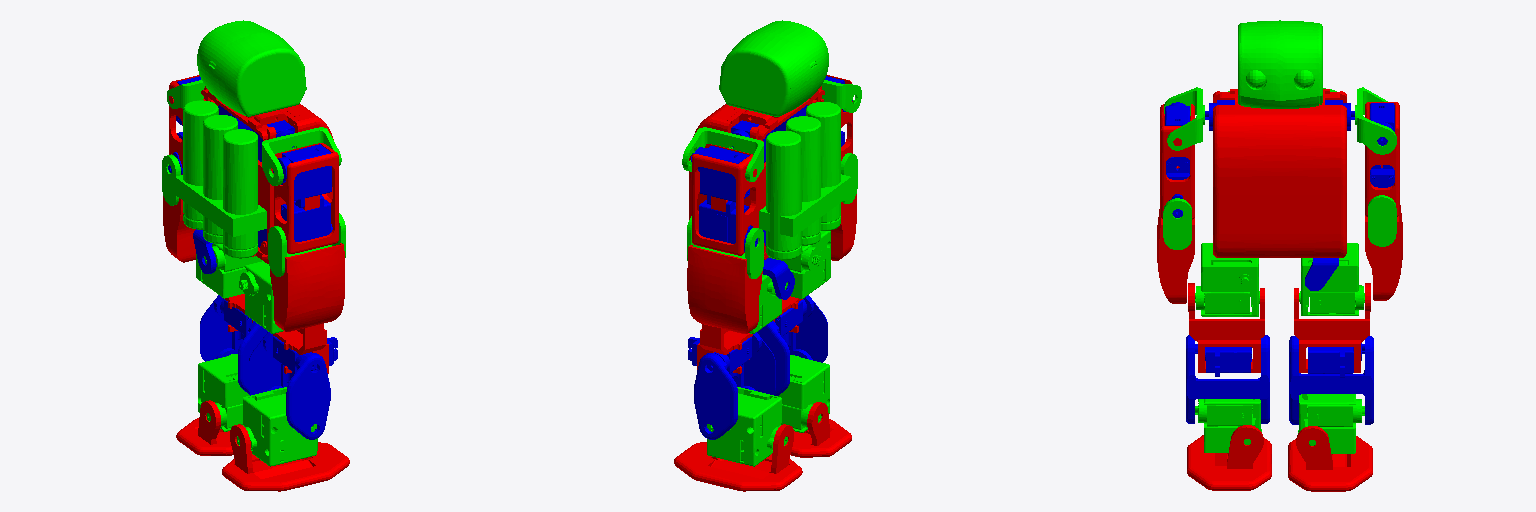
--- Render facts (derived) ---
3 views of the same robot in one strip: view 1: azimuth 30°, elevation 25°; view 2: azimuth 150°, elevation 25°; view 3: azimuth 270°, elevation 25° (orthographic).
Robot: plen — 34 links, 33 joints (18 revolute, 15 fixed); root link base_footprint; default pose: every joint at zero.
Links seen in each view (by area): view 1: battery, head, r_hand, r_shin, r_foot, r_ankle, r_arm, torso, l_shin, l_ankle, l_foot, r_thigh (+13 smaller); view 2: battery, head, l_hand, l_shin, l_foot, l_ankle, l_arm, r_shin, r_ankle, torso, r_foot, r_thigh (+12 smaller); view 3: torso, head, r_foot, l_foot, r_thigh, l_shin, l_thigh, r_shin, l_ankle, r_knee, l_knee, r_ankle (+13 smaller).
Link boxes in pixels (bbox=[...]): battery: bbox=[175, 100, 266, 258]; head: bbox=[197, 20, 306, 116]; r_hand: bbox=[270, 243, 344, 331]; r_shin: bbox=[249, 332, 330, 439]; r_foot: bbox=[222, 424, 349, 491]; r_ankle: bbox=[237, 387, 317, 466]; r_arm: bbox=[274, 143, 338, 253]; torso: bbox=[201, 86, 333, 263]; l_shin: bbox=[200, 295, 267, 395]; l_ankle: bbox=[198, 354, 249, 431]; l_foot: bbox=[176, 400, 233, 455]; r_thigh: bbox=[239, 261, 283, 333]; battery: bbox=[759, 102, 851, 259]; head: bbox=[719, 20, 828, 116]; l_hand: bbox=[687, 245, 762, 333]; l_shin: bbox=[694, 332, 775, 439]; l_foot: bbox=[674, 424, 802, 491]; l_ankle: bbox=[707, 387, 787, 466]; l_arm: bbox=[692, 144, 756, 255]; r_shin: bbox=[757, 295, 827, 395]; r_ankle: bbox=[778, 355, 829, 432]; torso: bbox=[689, 86, 824, 259]; r_foot: bbox=[791, 402, 851, 457]; r_thigh: bbox=[768, 231, 830, 298]; torso: bbox=[1213, 89, 1346, 257]; head: bbox=[1238, 20, 1322, 108]; r_foot: bbox=[1187, 425, 1271, 490]; l_foot: bbox=[1288, 426, 1372, 491]; r_thigh: bbox=[1195, 243, 1259, 316]; l_shin: bbox=[1289, 336, 1373, 424]; l_thigh: bbox=[1299, 243, 1364, 315]; r_shin: bbox=[1186, 335, 1269, 423]; l_ankle: bbox=[1298, 394, 1364, 453]; r_knee: bbox=[1188, 283, 1264, 372]; l_knee: bbox=[1294, 283, 1370, 372]; r_ankle: bbox=[1195, 399, 1261, 452].
Size in the robot's own frame: 0.0672 by 0.1222 by 0.236 metres.
Meshes: 17 distinct files referenced, 32 mesh visuals loaded (6 binary STL, 10 ASCII STL); not drawn: 1 (reference not matched to a file when rendering).

robot.urdf — plen:
<?xml version="1.0" encoding="utf-8"?>
<!-- =================================================================================== -->
<!-- |    This document was autogenerated by xacro from plen.urdf.xacro                | -->
<!-- |    EDITING THIS FILE BY HAND IS NOT RECOMMENDED                                 | -->
<!-- =================================================================================== -->
<robot name="plen">
  <!-- ros_control plugin -->
  <gazebo>
    <plugin filename="libgazebo_ros_control.so" name="gazebo_ros_control">
      <robotNamespace>/plen</robotNamespace>
      <robotSimType>gazebo_ros_control/DefaultRobotHWSim</robotSimType>
    </plugin>
  </gazebo>
  <gazebo reference="torso">
    <material>Gazebo/Gray</material>
    <mu1>100</mu1>
    <!-- static -->
    <mu2>100</mu2>
    <!-- dynamic -->
    <dampingFactor>0.001</dampingFactor>
    <kp>10000000.0</kp>
    <!-- rigidity (damping) -->
    <kd>1.0</kd>
    <!-- rigidity (damping) -->
    <minDepth>0.001</minDepth>
    <fdir1>1 0 0</fdir1>
    <!-- friction direction -->
  </gazebo>
  <gazebo reference="battery">
    <material>Gazebo/Orange</material>
    <mu1>100</mu1>
    <!-- static -->
    <mu2>100</mu2>
    <!-- dynamic -->
    <dampingFactor>0.001</dampingFactor>
    <kp>10000000.0</kp>
    <!-- rigidity (damping) -->
    <kd>1.0</kd>
    <!-- rigidity (damping) -->
    <minDepth>0.001</minDepth>
    <fdir1>1 0 0</fdir1>
    <!-- friction direction -->
  </gazebo>
  <gazebo reference="head">
    <material>Gazebo/Gray</material>
    <mu1>100</mu1>
    <!-- static -->
    <mu2>100</mu2>
    <!-- dynamic -->
    <dampingFactor>0.001</dampingFactor>
    <kp>10000000.0</kp>
    <!-- rigidity (damping) -->
    <kd>1.0</kd>
    <!-- rigidity (damping) -->
    <minDepth>0.001</minDepth>
    <fdir1>1 0 0</fdir1>
    <!-- friction direction -->
  </gazebo>
  <gazebo reference="rt_servo">
    <material>Gazebo/Orange</material>
    <mu1>100</mu1>
    <!-- static -->
    <mu2>100</mu2>
    <!-- dynamic -->
    <dampingFactor>0.001</dampingFactor>
    <kp>10000000.0</kp>
    <!-- rigidity (damping) -->
    <kd>1.0</kd>
    <!-- rigidity (damping) -->
    <minDepth>0.001</minDepth>
    <fdir1>1 0 0</fdir1>
    <!-- friction direction -->
  </gazebo>
  <gazebo reference="lt_servo">
    <material>Gazebo/Orange</material>
    <mu1>100</mu1>
    <!-- static -->
    <mu2>100</mu2>
    <!-- dynamic -->
    <dampingFactor>0.001</dampingFactor>
    <kp>10000000.0</kp>
    <!-- rigidity (damping) -->
    <kd>1.0</kd>
    <!-- rigidity (damping) -->
    <minDepth>0.001</minDepth>
    <fdir1>1 0 0</fdir1>
    <!-- friction direction -->
  </gazebo>
  <gazebo reference="rb_servo">
    <material>Gazebo/Orange</material>
    <mu1>100</mu1>
    <!-- static -->
    <mu2>100</mu2>
    <!-- dynamic -->
    <dampingFactor>0.001</dampingFactor>
    <kp>10000000.0</kp>
    <!-- rigidity (damping) -->
    <kd>1.0</kd>
    <!-- rigidity (damping) -->
    <minDepth>0.001</minDepth>
    <fdir1>1 0 0</fdir1>
    <!-- friction direction -->
  </gazebo>
  <gazebo reference="lb_servo">
    <material>Gazebo/Orange</material>
    <mu1>100</mu1>
    <!-- static -->
    <mu2>100</mu2>
    <!-- dynamic -->
    <dampingFactor>0.001</dampingFactor>
    <kp>10000000.0</kp>
    <!-- rigidity (damping) -->
    <kd>1.0</kd>
    <!-- rigidity (damping) -->
    <minDepth>0.001</minDepth>
    <fdir1>1 0 0</fdir1>
    <!-- friction direction -->
  </gazebo>
  <gazebo reference="r_shoulder">
    <material>Gazebo/Gray</material>
    <mu1>100</mu1>
    <!-- static -->
    <mu2>100</mu2>
    <!-- dynamic -->
    <dampingFactor>0.001</dampingFactor>
    <kp>10000000.0</kp>
    <!-- rigidity (damping) -->
    <kd>1.0</kd>
    <!-- rigidity (damping) -->
    <minDepth>0.001</minDepth>
    <fdir1>1 0 0</fdir1>
    <!-- friction direction -->
  </gazebo>
  <gazebo reference="rs_servo">
    <material>Gazebo/Orange</material>
    <mu1>100</mu1>
    <!-- static -->
    <mu2>100</mu2>
    <!-- dynamic -->
    <dampingFactor>0.001</dampingFactor>
    <kp>10000000.0</kp>
    <!-- rigidity (damping) -->
    <kd>1.0</kd>
    <!-- rigidity (damping) -->
    <minDepth>0.001</minDepth>
    <fdir1>1 0 0</fdir1>
    <!-- friction direction -->
  </gazebo>
  <gazebo reference="r_arm">
    <material>Gazebo/Gray</material>
    <mu1>100</mu1>
    <!-- static -->
    <mu2>100</mu2>
    <!-- dynamic -->
    <dampingFactor>0.001</dampingFactor>
    <kp>10000000.0</kp>
    <!-- rigidity (damping) -->
    <kd>1.0</kd>
    <!-- rigidity (damping) -->
    <minDepth>0.001</minDepth>
    <fdir1>1 0 0</fdir1>
    <!-- friction direction -->
  </gazebo>
  <gazebo reference="re_servo">
    <material>Gazebo/Orange</material>
    <mu1>100</mu1>
    <!-- static -->
    <mu2>100</mu2>
    <!-- dynamic -->
    <dampingFactor>0.001</dampingFactor>
    <kp>10000000.0</kp>
    <!-- rigidity (damping) -->
    <kd>1.0</kd>
    <!-- rigidity (damping) -->
    <minDepth>0.001</minDepth>
    <fdir1>1 0 0</fdir1>
    <!-- friction direction -->
  </gazebo>
  <gazebo reference="r_elbow">
    <material>Gazebo/Gray</material>
    <mu1>100</mu1>
    <!-- static -->
    <mu2>100</mu2>
    <!-- dynamic -->
    <dampingFactor>0.001</dampingFactor>
    <kp>10000000.0</kp>
    <!-- rigidity (damping) -->
    <kd>1.0</kd>
    <!-- rigidity (damping) -->
    <minDepth>0.001</minDepth>
    <fdir1>1 0 0</fdir1>
    <!-- friction direction -->
  </gazebo>
  <gazebo reference="r_hand">
    <material>Gazebo/Gray</material>
    <mu1>100</mu1>
    <!-- static -->
    <mu2>100</mu2>
    <!-- dynamic -->
    <dampingFactor>0.001</dampingFactor>
    <kp>10000000.0</kp>
    <!-- rigidity (damping) -->
    <kd>1.0</kd>
    <!-- rigidity (damping) -->
    <minDepth>0.001</minDepth>
    <fdir1>1 0 0</fdir1>
    <!-- friction direction -->
  </gazebo>
  <gazebo reference="l_shoulder">
    <material>Gazebo/Gray</material>
    <mu1>100</mu1>
    <!-- static -->
    <mu2>100</mu2>
    <!-- dynamic -->
    <dampingFactor>0.001</dampingFactor>
    <kp>10000000.0</kp>
    <!-- rigidity (damping) -->
    <kd>1.0</kd>
    <!-- rigidity (damping) -->
    <minDepth>0.001</minDepth>
    <fdir1>1 0 0</fdir1>
    <!-- friction direction -->
  </gazebo>
  <gazebo reference="ls_servo">
    <material>Gazebo/Orange</material>
    <mu1>100</mu1>
    <!-- static -->
    <mu2>100</mu2>
    <!-- dynamic -->
    <dampingFactor>0.001</dampingFactor>
    <kp>10000000.0</kp>
    <!-- rigidity (damping) -->
    <kd>1.0</kd>
    <!-- rigidity (damping) -->
    <minDepth>0.001</minDepth>
    <fdir1>1 0 0</fdir1>
    <!-- friction direction -->
  </gazebo>
  <gazebo reference="l_arm">
    <material>Gazebo/Gray</material>
    <mu1>100</mu1>
    <!-- static -->
    <mu2>100</mu2>
    <!-- dynamic -->
    <dampingFactor>0.001</dampingFactor>
    <kp>10000000.0</kp>
    <!-- rigidity (damping) -->
    <kd>1.0</kd>
    <!-- rigidity (damping) -->
    <minDepth>0.001</minDepth>
    <fdir1>1 0 0</fdir1>
    <!-- friction direction -->
  </gazebo>
  <gazebo reference="le_servo">
    <material>Gazebo/Orange</material>
    <mu1>100</mu1>
    <!-- static -->
    <mu2>100</mu2>
    <!-- dynamic -->
    <dampingFactor>0.001</dampingFactor>
    <kp>10000000.0</kp>
    <!-- rigidity (damping) -->
    <kd>1.0</kd>
    <!-- rigidity (damping) -->
    <minDepth>0.001</minDepth>
    <fdir1>1 0 0</fdir1>
    <!-- friction direction -->
  </gazebo>
  <gazebo reference="l_elbow">
    <material>Gazebo/Gray</material>
    <mu1>100</mu1>
    <!-- static -->
    <mu2>100</mu2>
    <!-- dynamic -->
    <dampingFactor>0.001</dampingFactor>
    <kp>10000000.0</kp>
    <!-- rigidity (damping) -->
    <kd>1.0</kd>
    <!-- rigidity (damping) -->
    <minDepth>0.001</minDepth>
    <fdir1>1 0 0</fdir1>
    <!-- friction direction -->
  </gazebo>
  <gazebo reference="l_hand">
    <material>Gazebo/Gray</material>
    <mu1>100</mu1>
    <!-- static -->
    <mu2>100</mu2>
    <!-- dynamic -->
    <dampingFactor>0.001</dampingFactor>
    <kp>10000000.0</kp>
    <!-- rigidity (damping) -->
    <kd>1.0</kd>
    <!-- rigidity (damping) -->
    <minDepth>0.001</minDepth>
    <fdir1>1 0 0</fdir1>
    <!-- friction direction -->
  </gazebo>
  <gazebo reference="r_hip">
    <material>Gazebo/Gray</material>
    <mu1>100</mu1>
    <!-- static -->
    <mu2>100</mu2>
    <!-- dynamic -->
    <dampingFactor>0.001</dampingFactor>
    <kp>10000000.0</kp>
    <!-- rigidity (damping) -->
    <kd>1.0</kd>
    <!-- rigidity (damping) -->
    <minDepth>0.001</minDepth>
    <fdir1>1 0 0</fdir1>
    <!-- friction direction -->
  </gazebo>
  <gazebo reference="r_thigh">
    <material>Gazebo/Orange</material>
    <mu1>100</mu1>
    <!-- static -->
    <mu2>100</mu2>
    <!-- dynamic -->
    <dampingFactor>0.001</dampingFactor>
    <kp>10000000.0</kp>
    <!-- rigidity (damping) -->
    <kd>1.0</kd>
    <!-- rigidity (damping) -->
    <minDepth>0.001</minDepth>
    <fdir1>1 0 0</fdir1>
    <!-- friction direction -->
  </gazebo>
  <gazebo reference="r_knee">
    <material>Gazebo/Gray</material>
    <mu1>100</mu1>
    <!-- static -->
    <mu2>100</mu2>
    <!-- dynamic -->
    <dampingFactor>0.001</dampingFactor>
    <kp>10000000.0</kp>
    <!-- rigidity (damping) -->
    <kd>1.0</kd>
    <!-- rigidity (damping) -->
    <minDepth>0.001</minDepth>
    <fdir1>1 0 0</fdir1>
    <!-- friction direction -->
  </gazebo>
  <gazebo reference="r_knee_servo">
    <material>Gazebo/Orange</material>
    <mu1>100</mu1>
    <!-- static -->
    <mu2>100</mu2>
    <!-- dynamic -->
    <dampingFactor>0.001</dampingFactor>
    <kp>10000000.0</kp>
    <!-- rigidity (damping) -->
    <kd>1.0</kd>
    <!-- rigidity (damping) -->
    <minDepth>0.001</minDepth>
    <fdir1>1 0 0</fdir1>
    <!-- friction direction -->
  </gazebo>
  <gazebo reference="r_shin">
    <material>Gazebo/Gray</material>
    <mu1>100</mu1>
    <!-- static -->
    <mu2>100</mu2>
    <!-- dynamic -->
    <dampingFactor>0.001</dampingFactor>
    <kp>10000000.0</kp>
    <!-- rigidity (damping) -->
    <kd>1.0</kd>
    <!-- rigidity (damping) -->
    <minDepth>0.001</minDepth>
    <fdir1>1 0 0</fdir1>
    <!-- friction direction -->
  </gazebo>
  <gazebo reference="r_ankle">
    <material>Gazebo/Orange</material>
    <mu1>100</mu1>
    <!-- static -->
    <mu2>100</mu2>
    <!-- dynamic -->
    <dampingFactor>0.001</dampingFactor>
    <kp>10000000.0</kp>
    <!-- rigidity (damping) -->
    <kd>1.0</kd>
    <!-- rigidity (damping) -->
    <minDepth>0.001</minDepth>
    <fdir1>1 0 0</fdir1>
    <!-- friction direction -->
  </gazebo>
  <gazebo reference="r_foot">
    <material>Gazebo/Gray</material>
    <mu1>100</mu1>
    <!-- static -->
    <mu2>100</mu2>
    <!-- dynamic -->
    <dampingFactor>0.001</dampingFactor>
    <kp>10000000.0</kp>
    <!-- rigidity (damping) -->
    <kd>1.0</kd>
    <!-- rigidity (damping) -->
    <minDepth>0.001</minDepth>
    <fdir1>1 0 0</fdir1>
    <!-- friction direction -->
  </gazebo>
  <gazebo reference="l_hip">
    <material>Gazebo/Gray</material>
    <mu1>100</mu1>
    <!-- static -->
    <mu2>100</mu2>
    <!-- dynamic -->
    <dampingFactor>0.001</dampingFactor>
    <kp>10000000.0</kp>
    <!-- rigidity (damping) -->
    <kd>1.0</kd>
    <!-- rigidity (damping) -->
    <minDepth>0.001</minDepth>
    <fdir1>1 0 0</fdir1>
    <!-- friction direction -->
  </gazebo>
  <gazebo reference="l_thigh">
    <material>Gazebo/Orange</material>
    <mu1>100</mu1>
    <!-- static -->
    <mu2>100</mu2>
    <!-- dynamic -->
    <dampingFactor>0.001</dampingFactor>
    <kp>10000000.0</kp>
    <!-- rigidity (damping) -->
    <kd>1.0</kd>
    <!-- rigidity (damping) -->
    <minDepth>0.001</minDepth>
    <fdir1>1 0 0</fdir1>
    <!-- friction direction -->
  </gazebo>
  <gazebo reference="l_knee">
    <material>Gazebo/Gray</material>
    <mu1>100</mu1>
    <!-- static -->
    <mu2>100</mu2>
    <!-- dynamic -->
    <dampingFactor>0.001</dampingFactor>
    <kp>10000000.0</kp>
    <!-- rigidity (damping) -->
    <kd>1.0</kd>
    <!-- rigidity (damping) -->
    <minDepth>0.001</minDepth>
    <fdir1>1 0 0</fdir1>
    <!-- friction direction -->
  </gazebo>
  <gazebo reference="l_knee_servo">
    <material>Gazebo/Orange</material>
    <mu1>100</mu1>
    <!-- static -->
    <mu2>100</mu2>
    <!-- dynamic -->
    <dampingFactor>0.001</dampingFactor>
    <kp>10000000.0</kp>
    <!-- rigidity (damping) -->
    <kd>1.0</kd>
    <!-- rigidity (damping) -->
    <minDepth>0.001</minDepth>
    <fdir1>1 0 0</fdir1>
    <!-- friction direction -->
  </gazebo>
  <gazebo reference="l_shin">
    <material>Gazebo/Gray</material>
    <mu1>100</mu1>
    <!-- static -->
    <mu2>100</mu2>
    <!-- dynamic -->
    <dampingFactor>0.001</dampingFactor>
    <kp>10000000.0</kp>
    <!-- rigidity (damping) -->
    <kd>1.0</kd>
    <!-- rigidity (damping) -->
    <minDepth>0.001</minDepth>
    <fdir1>1 0 0</fdir1>
    <!-- friction direction -->
  </gazebo>
  <gazebo reference="l_ankle">
    <material>Gazebo/Orange</material>
    <mu1>100</mu1>
    <!-- static -->
    <mu2>100</mu2>
    <!-- dynamic -->
    <dampingFactor>0.001</dampingFactor>
    <kp>10000000.0</kp>
    <!-- rigidity (damping) -->
    <kd>1.0</kd>
    <!-- rigidity (damping) -->
    <minDepth>0.001</minDepth>
    <fdir1>1 0 0</fdir1>
    <!-- friction direction -->
  </gazebo>
  <gazebo reference="l_foot">
    <material>Gazebo/Gray</material>
    <mu1>100</mu1>
    <!-- static -->
    <mu2>100</mu2>
    <!-- dynamic -->
    <dampingFactor>0.001</dampingFactor>
    <kp>10000000.0</kp>
    <!-- rigidity (damping) -->
    <kd>1.0</kd>
    <!-- rigidity (damping) -->
    <minDepth>0.001</minDepth>
    <fdir1>1 0 0</fdir1>
    <!-- friction direction -->
  </gazebo>
  <!-- Robot description -->
  <!-- Links -->
  <link name="base_footprint"/>
  <link name="torso">
    <visual>
      <origin rpy="0 0 0" xyz="0 0 0"/>
      <geometry>
        <mesh filename="package://plen_ros/meshes/torso.stl" scale="0.001 0.001 0.001"/>
      </geometry>
      <material name="red_mat">
        <color rgba="1 0 0 1"/>
      </material>
    </visual>
    <collision>
      <origin rpy="0 0 0" xyz="0.0 0 0.0"/>
      <geometry>
        <box size="0.045 0.048 0.075"/>
      </geometry>
    </collision>
    <inertial>
      <mass value="0.043968"/>
      <origin rpy="0 0 0" xyz="0.0 0 0.0"/>
      <!-- Inertial Axes -->
      <inertia ixx="2.80296e-05" ixy="0" ixz="0" iyx="0" iyy="2.80296e-05" iyz="0" izx="0" izy="0" izz="1.5861456e-05"/>
    </inertial>
  </link>
  <!-- m to mm -->
  <link name="battery">
    <visual>
      <origin rpy="0 0 0" xyz="0 0 0"/>
      <geometry>
        <mesh filename="package://plen_ros/meshes/battery.stl" scale="0.001 0.001 0.001"/>
      </geometry>
      <material name="green_mat">
        <color rgba="0 1 0 1"/>
      </material>
    </visual>
    <collision>
      <origin rpy="0 0 0" xyz="0.0075 0 0.0115"/>
      <geometry>
        <box size="0.011 0.051 0.046"/>
      </geometry>
    </collision>
    <inertial>
      <mass value="0.064"/>
      <origin rpy="0 0 0" xyz="0.0075 0 0.0115"/>
      <!-- Inertial Axes -->
      <inertia ixx="1.19306666667e-05" ixy="0" ixz="0" iyx="0" iyy="1.19306666667e-05" iyz="0" izx="0" izy="0" izz="1.45173333333e-05"/>
    </inertial>
  </link>
  <link name="head">
    <visual>
      <origin rpy="0 0 0" xyz="0 0 0"/>
      <geometry>
        <mesh filename="package://plen_ros/meshes/head.stl" scale="0.001 0.001 0.001"/>
      </geometry>
      <material name="green_mat">
        <color rgba="0 1 0 1"/>
      </material>
    </visual>
    <collision>
      <origin rpy="0 0 0" xyz="0 0 0.0"/>
      <geometry>
        <box size="0.04 0.04 0.04"/>
      </geometry>
    </collision>
    <inertial>
      <mass value="0.01"/>
      <origin rpy="0 0 0" xyz="0.0 0 0.0"/>
      <!-- Inertial Axes -->
      <inertia ixx="2.66666666667e-06" ixy="0" ixz="0" iyx="0" iyy="2.66666666667e-06" iyz="0" izx="0" izy="0" izz="2.66666666667e-06"/>
    </inertial>
  </link>
  <link name="rt_servo">
    <visual>
      <origin rpy="0 0 3.14159265359" xyz="0 0 0"/>
      <geometry>
        <mesh filename="package://plen_ros/meshes/servo.stl" scale="0.001 0.001 0.001"/>
      </geometry>
      <material name="blue_mat">
        <color rgba="0 0 1 1"/>
      </material>
    </visual>
    <collision>
      <origin rpy="0 0 3.14159265359" xyz="0 0.00625 0.0"/>
      <geometry>
        <box size="0.012 0.025 0.025"/>
      </geometry>
    </collision>
    <inertial>
      <mass value="0.012"/>
      <origin rpy="0 0 0" xyz="0 0.00625 0.0"/>
      <!-- Inertial Axes -->
      <inertia ixx="7.69e-07" ixy="0" ixz="0" iyx="0" iyy="7.69e-07" iyz="0" izx="0" izy="0" izz="7.69e-07"/>
    </inertial>
  </link>
  <link name="lt_servo">
    <visual>
      <origin rpy="0 0 3.14159265359" xyz="0 0 0"/>
      <geometry>
        <mesh filename="package://plen_ros/meshes/servo.stl" scale="0.001 0.001 0.001"/>
      </geometry>
      <material name="blue_mat">
        <color rgba="0 0 1 1"/>
      </material>
    </visual>
    <collision>
      <origin rpy="0 0 3.14159265359" xyz="0 0.00625 0.0"/>
      <geometry>
        <box size="0.012 0.025 0.025"/>
      </geometry>
    </collision>
    <inertial>
      <mass value="0.012"/>
      <origin rpy="0 0 0" xyz="0 0.00625 0.0"/>
      <!-- Inertial Axes -->
      <inertia ixx="7.69e-07" ixy="0" ixz="0" iyx="0" iyy="7.69e-07" iyz="0" izx="0" izy="0" izz="7.69e-07"/>
    </inertial>
  </link>
  <link name="rb_servo">
    <visual>
      <origin rpy="0 0 3.14159265359" xyz="0 0 0"/>
      <geometry>
        <mesh filename="package://plen_ros/meshes/servo.stl" scale="0.001 0.001 0.001"/>
      </geometry>
      <material name="blue_mat">
        <color rgba="0 0 1 1"/>
      </material>
    </visual>
    <collision>
      <origin rpy="0 0 3.14159265359" xyz="0 0.00625 0.0"/>
      <geometry>
        <box size="0.012 0.025 0.025"/>
      </geometry>
    </collision>
    <inertial>
      <mass value="0.012"/>
      <origin rpy="0 0 0" xyz="0 0.00625 0.0"/>
      <!-- Inertial Axes -->
      <inertia ixx="7.69e-07" ixy="0" ixz="0" iyx="0" iyy="7.69e-07" iyz="0" izx="0" izy="0" izz="7.69e-07"/>
    </inertial>
  </link>
  <link name="lb_servo">
    <visual>
      <origin rpy="0 0 3.14159265359" xyz="0 0 0"/>
      <geometry>
        <mesh filename="package://plen_ros/meshes/servo.stl" scale="0.001 0.001 0.001"/>
      </geometry>
      <material name="blue_mat">
        <color rgba="0 0 1 1"/>
      </material>
    </visual>
    <collision>
      <origin rpy="0 0 3.14159265359" xyz="0 0.00625 0.0"/>
      <geometry>
        <box size="0.012 0.025 0.025"/>
      </geometry>
    </collision>
    <inertial>
      <mass value="0.012"/>
      <origin rpy="0 0 0" xyz="0 0.00625 0.0"/>
      <!-- Inertial Axes -->
      <inertia ixx="7.69e-07" ixy="0" ixz="0" iyx="0" iyy="7.69e-07" iyz="0" izx="0" izy="0" izz="7.69e-07"/>
    </inertial>
  </link>
  <link name="r_shoulder">
    <visual>
      <origin rpy="0 0 0" xyz="0 0 0"/>
      <geometry>
        <mesh filename="package://plen_ros/meshes/shoulder.stl" scale="0.001 0.001 0.001"/>
      </geometry>
      <material name="green_mat">
        <color rgba="0 1 0 1"/>
      </material>
    </visual>
    <collision>
      <origin rpy="0 0 0" xyz="0 0 0.0125"/>
      <geometry>
        <box size="0.018 0.035 0.025"/>
      </geometry>
    </collision>
    <inertial>
      <mass value="0.002954"/>
      <origin rpy="0 0 0" xyz="0 0 0.0125"/>
      <!-- Inertial Axes -->
      <inertia ixx="2.33612166667e-07" ixy="0" ixz="0" iyx="0" iyy="2.33612166667e-07" iyz="0" izx="0" izy="0" izz="3.81312166667e-07"/>
    </inertial>
  </link>
  <link name="rs_servo">
    <visual>
      <origin rpy="0 0 3.14159265359" xyz="0 0 0"/>
      <geometry>
        <mesh filename="package://plen_ros/meshes/servo.stl" scale="0.001 0.001 0.001"/>
      </geometry>
      <material name="blue_mat">
        <color rgba="0 0 1 1"/>
      </material>
    </visual>
    <collision>
      <origin rpy="0 0 3.14159265359" xyz="0 0.00625 0.0"/>
      <geometry>
        <box size="0.012 0.025 0.025"/>
      </geometry>
    </collision>
    <inertial>
      <mass value="0.012"/>
      <origin rpy="0 0 0" xyz="0 0.00625 0.0"/>
      <!-- Inertial Axes -->
      <inertia ixx="7.69e-07" ixy="0" ixz="0" iyx="0" iyy="7.69e-07" iyz="0" izx="0" izy="0" izz="7.69e-07"/>
    </inertial>
  </link>
  <link name="r_arm">
    <visual>
      <origin rpy="0 0 0" xyz="0 0 0"/>
      <geometry>
        <mesh filename="package://plen_ros/meshes/arm.stl" scale="0.001 0.001 0.001"/>
      </geometry>
      <material name="red_mat">
        <color rgba="1 0 0 1"/>
      </material>
    </visual>
    <collision>
      <origin rpy="0 0 0" xyz="0 0 0.0"/>
      <geometry>
        <box size="0.015 0.035 0.05"/>
      </geometry>
    </collision>
    <inertial>
      <mass value="0.005091"/>
      <origin rpy="0 0 0" xyz="0 0 0.0"/>
      <!-- Inertial Axes -->
      <inertia ixx="1.15608125e-06" ixy="0" ixz="0" iyx="0" iyy="1.15608125e-06" iyz="0" izx="0" izy="0" izz="6.151625e-07"/>
    </inertial>
  </link>
  <link name="re_servo">
    <visual>
      <origin rpy="0 0 3.14159265359" xyz="0 0 0"/>
      <geometry>
        <mesh filename="package://plen_ros/meshes/servo.stl" scale="0.001 0.001 0.001"/>
      </geometry>
      <material name="blue_mat">
        <color rgba="0 0 1 1"/>
      </material>
    </visual>
    <collision>
      <origin rpy="0 0 3.14159265359" xyz="0 0.00625 0.0"/>
      <geometry>
        <box size="0.012 0.025 0.025"/>
      </geometry>
    </collision>
    <inertial>
      <mass value="0.012"/>
      <origin rpy="0 0 0" xyz="0 0.00625 0.0"/>
      <!-- Inertial Axes -->
      <inertia ixx="7.69e-07" ixy="0" ixz="0" iyx="0" iyy="7.69e-07" iyz="0" izx="0" izy="0" izz="7.69e-07"/>
    </inertial>
  </link>
  <link name="r_elbow">
    <visual>
      <origin rpy="0 0 0" xyz="-0.0135 0 0"/>
      <geometry>
        <mesh filename="package://plen_ros/meshes/elbow.stl" scale="0.001 0.001 0.001"/>
      </geometry>
      <material name="green_mat">
        <color rgba="0 1 0 1"/>
      </material>
    </visual>
    <collision>
      <origin rpy="0 0 0" xyz="-0.00675 0 0.0"/>
      <geometry>
        <box size="0.027 0.034 0.014"/>
      </geometry>
    </collision>
    <inertial>
      <mass value="0.003046"/>
      <origin rpy="0 0 0" xyz="-0.00675 0 0.0"/>
      <!-- Inertial Axes -->
      <inertia ixx="2.34795833333e-07" ixy="0" ixz="0" iyx="0" iyy="2.34795833333e-07" iyz="0" izx="0" izy="0" izz="4.78475833333e-07"/>
    </inertial>
  </link>
  <link name="r_hand">
    <visual>
      <origin rpy="0 0 0" xyz="0.0 0 0"/>
      <geometry>
        <mesh filename="package://plen_ros/meshes/hand.stl" scale="0.001 0.001 0.001"/>
      </geometry>
      <material name="red_mat">
        <color rgba="1 0 0 1"/>
      </material>
    </visual>
    <collision>
      <origin rpy="0 0 0" xyz="0 0 0.0"/>
      <geometry>
        <box size="0.019 0.034 0.035"/>
      </geometry>
    </collision>
    <inertial>
      <mass value="0.008305"/>
      <origin rpy="0 0 0" xyz="0 0 0.0"/>
      <!-- Inertial Axes -->
      <inertia ixx="1.09764416667e-06" ixy="0" ixz="0" iyx="0" iyy="1.09764416667e-06" iyz="0" izx="0" izy="0" izz="1.04989041667e-06"/>
    </inertial>
  </link>
  <link name="l_shoulder">
    <visual>
      <origin rpy="0 0 0" xyz="0 0 0"/>
      <geometry>
        <mesh filename="package://plen_ros/meshes/shoulder.stl" scale="0.001 0.001 0.001"/>
      </geometry>
      <material name="green_mat">
        <color rgba="0 1 0 1"/>
      </material>
    </visual>
    <collision>
      <origin rpy="0 0 0" xyz="0 0 0.0125"/>
      <geometry>
        <box size="0.018 0.035 0.025"/>
      </geometry>
    </collision>
    <inertial>
      <mass value="0.002954"/>
      <origin rpy="0 0 0" xyz="0 0 0.0125"/>
      <!-- Inertial Axes -->
      <inertia ixx="2.33612166667e-07" ixy="0" ixz="0" iyx="0" iyy="2.33612166667e-07" iyz="0" izx="0" izy="0" izz="3.81312166667e-07"/>
    </inertial>
  </link>
  <link name="ls_servo">
    <visual>
      <origin rpy="0 0 3.14159265359" xyz="0 0 0"/>
      <geometry>
        <mesh filename="package://plen_ros/meshes/servo.stl" scale="0.001 0.001 0.001"/>
      </geometry>
      <material name="blue_mat">
        <color rgba="0 0 1 1"/>
      </material>
    </visual>
    <collision>
      <origin rpy="0 0 3.14159265359" xyz="0 0.00625 0.0"/>
      <geometry>
        <box size="0.012 0.025 0.025"/>
      </geometry>
    </collision>
    <inertial>
      <mass value="0.012"/>
      <origin rpy="0 0 0" xyz="0 0.00625 0.0"/>
      <!-- Inertial Axes -->
      <inertia ixx="7.69e-07" ixy="0" ixz="0" iyx="0" iyy="7.69e-07" iyz="0" izx="0" izy="0" izz="7.69e-07"/>
    </inertial>
  </link>
  <link name="l_arm">
    <visual>
      <origin rpy="0 0 0" xyz="0 0 0"/>
      <geometry>
        <mesh filename="package://plen_ros/meshes/arm.stl" scale="0.001 0.001 0.001"/>
      </geometry>
      <material name="red_mat">
        <color rgba="1 0 0 1"/>
      </material>
    </visual>
    <collision>
      <origin rpy="0 0 0" xyz="0 0 0.0"/>
      <geometry>
        <box size="0.015 0.035 0.05"/>
      </geometry>
    </collision>
    <inertial>
      <mass value="0.005091"/>
      <origin rpy="0 0 0" xyz="0 0 0.0"/>
      <!-- Inertial Axes -->
      <inertia ixx="1.15608125e-06" ixy="0" ixz="0" iyx="0" iyy="1.15608125e-06" iyz="0" izx="0" izy="0" izz="6.151625e-07"/>
    </inertial>
  </link>
  <link name="le_servo">
    <visual>
      <origin rpy="0 0 3.14159265359" xyz="0 0 0"/>
      <geometry>
        <mesh filename="package://plen_ros/meshes/servo.stl" scale="0.001 0.001 0.001"/>
      </geometry>
      <material name="blue_mat">
        <color rgba="0 0 1 1"/>
      </material>
    </visual>
    <collision>
      <origin rpy="0 0 3.14159265359" xyz="0 0.00625 0.0"/>
      <geometry>
        <box size="0.012 0.025 0.025"/>
      </geometry>
    </collision>
    <inertial>
      <mass value="0.012"/>
      <origin rpy="0 0 0" xyz="0 0.00625 0.0"/>
      <!-- Inertial Axes -->
      <inertia ixx="7.69e-07" ixy="0" ixz="0" iyx="0" iyy="7.69e-07" iyz="0" izx="0" izy="0" izz="7.69e-07"/>
    </inertial>
  </link>
  <link name="l_elbow">
    <visual>
      <origin rpy="0 0 0" xyz="-0.0135 0 0"/>
      <geometry>
        <mesh filename="package://plen_ros/meshes/elbow.stl" scale="0.001 0.001 0.001"/>
      </geometry>
      <material name="green_mat">
        <color rgba="0 1 0 1"/>
      </material>
    </visual>
    <collision>
      <origin rpy="0 0 0" xyz="-0.00675 0 0.0"/>
      <geometry>
        <box size="0.027 0.034 0.014"/>
      </geometry>
    </collision>
    <inertial>
      <mass value="0.003046"/>
      <origin rpy="0 0 0" xyz="-0.00675 0 0.0"/>
      <!-- Inertial Axes -->
      <inertia ixx="2.34795833333e-07" ixy="0" ixz="0" iyx="0" iyy="2.34795833333e-07" iyz="0" izx="0" izy="0" izz="4.78475833333e-07"/>
    </inertial>
  </link>
  <link name="l_hand">
    <visual>
      <origin rpy="0 0 0" xyz="0.0 0 0"/>
      <geometry>
        <mesh filename="package://plen_ros/meshes/hand.stl" scale="0.001 0.001 0.001"/>
      </geometry>
      <material name="red_mat">
        <color rgba="1 0 0 1"/>
      </material>
    </visual>
    <collision>
      <origin rpy="0 0 0" xyz="0 0 0.0"/>
      <geometry>
        <box size="0.019 0.034 0.035"/>
      </geometry>
    </collision>
    <inertial>
      <mass value="0.008305"/>
      <origin rpy="0 0 0" xyz="0 0 0.0"/>
      <!-- Inertial Axes -->
      <inertia ixx="1.09764416667e-06" ixy="0" ixz="0" iyx="0" iyy="1.09764416667e-06" iyz="0" izx="0" izy="0" izz="1.04989041667e-06"/>
    </inertial>
  </link>
  <link name="r_hip">
    <visual>
      <origin rpy="3.14159265359 0 3.14159265359" xyz="0.0 0.0 0.0"/>
      <geometry>
        <mesh filename="package://plen_ros/meshes/rhip.stl" scale="0.001 0.001 0.001"/>
      </geometry>
      <material name="blue_mat">
        <color rgba="0 0 1 1"/>
      </material>
    </visual>
    <collision>
      <origin rpy="3.14159265359 0 3.14159265359" xyz="0 0 -0.009"/>
      <geometry>
        <box size="0.025 0.035 0.018"/>
      </geometry>
    </collision>
    <inertial>
      <mass value="0.002568"/>
      <origin rpy="0 0 0" xyz="0 0 -0.009"/>
      <!-- Inertial Axes -->
      <inertia ixx="2.03086e-07" ixy="0" ixz="0" iyx="0" iyy="2.03086e-07" iyz="0" izx="0" izy="0" izz="3.959e-07"/>
    </inertial>
  </link>
  <link name="r_thigh">
    <visual>
      <origin rpy="0 0 0" xyz="-0.0075 0 -0.0075"/>
      <geometry>
        <mesh filename="package://plen_ros/meshes/rthigh.stl" scale="0.001 0.001 0.001"/>
      </geometry>
      <material name="green_mat">
        <color rgba="0 1 0 1"/>
      </material>
    </visual>
    <collision>
      <origin rpy="0 0 0" xyz="-0.007 0 0.007"/>
      <geometry>
        <box size="0.028 0.028 0.028"/>
      </geometry>
    </collision>
    <inertial>
      <mass value="0.04"/>
      <origin rpy="0 0 0" xyz="-0.007 0 0.007"/>
      <!-- Inertial Axes -->
      <inertia ixx="5.22666666667e-06" ixy="0" ixz="0" iyx="0" iyy="5.22666666667e-06" iyz="0" izx="0" izy="0" izz="5.22666666667e-06"/>
    </inertial>
  </link>
  <!-- og mass: 21.617-->
  <link name="r_knee">
    <visual>
      <origin rpy="0 0 0" xyz="0.0 0.0 0.0"/>
      <geometry>
        <mesh filename="package://plen_ros/meshes/rknee.stl" scale="0.001 0.001 0.001"/>
      </geometry>
      <material name="red_mat">
        <color rgba="1 0 0 1"/>
      </material>
    </visual>
    <collision>
      <origin rpy="0 0 0" xyz="0.0175 -0.015 0.0"/>
      <geometry>
        <box size="0.038 0.03 0.024"/>
      </geometry>
    </collision>
    <inertial>
      <mass value="0.005004"/>
      <origin rpy="0 0 0" xyz="0.0175 -0.015 0.0"/>
      <!-- Inertial Axes -->
      <inertia ixx="8.4234e-07" ixy="0" ixz="0" iyx="0" iyy="8.4234e-07" iyz="0" izx="0" izy="0" izz="9.77448e-07"/>
    </inertial>
  </link>
  <link name="r_knee_servo">
    <visual>
      <origin rpy="0 0 3.14159265359" xyz="0 0 0"/>
      <geometry>
        <mesh filename="package://plen_ros/meshes/servo.stl" scale="0.001 0.001 0.001"/>
      </geometry>
      <material name="blue_mat">
        <color rgba="0 0 1 1"/>
      </material>
    </visual>
    <collision>
      <origin rpy="0 0 3.14159265359" xyz="0 0.00625 0.0"/>
      <geometry>
        <box size="0.012 0.025 0.025"/>
      </geometry>
    </collision>
    <inertial>
      <mass value="0.012"/>
      <origin rpy="0 0 0" xyz="0 0.00625 0.0"/>
      <!-- Inertial Axes -->
      <inertia ixx="7.69e-07" ixy="0" ixz="0" iyx="0" iyy="7.69e-07" iyz="0" izx="0" izy="0" izz="7.69e-07"/>
    </inertial>
  </link>
  <link name="r_shin">
    <visual>
      <origin rpy="0 0 0" xyz="0.0168 0 -0.0091"/>
      <geometry>
        <mesh filename="package://plen_ros/meshes/rshin.stl" scale="0.001 0.001 0.001"/>
      </geometry>
      <material name="blue_mat">
        <color rgba="0 0 1 1"/>
      </material>
    </visual>
    <collision>
      <origin rpy="0 0 0" xyz="0.018 0 0.004"/>
      <geometry>
        <box size="0.045 0.04 0.023"/>
      </geometry>
    </collision>
    <inertial>
      <mass value="0.006965"/>
      <origin rpy="0 0 0" xyz="0.018 0 0.004"/>
      <!-- Inertial Axes -->
      <inertia ixx="1.48238416667e-06" ixy="0" ixz="0" iyx="0" iyy="1.48238416667e-06" iyz="0" izx="0" izy="0" izz="2.10401041667e-06"/>
    </inertial>
  </link>
  <link name="r_ankle">
    <visual>
      <origin rpy="0 0 0" xyz="0.0 0.0 0.0"/>
      <geometry>
        <mesh filename="package://plen_ros/meshes/rankle.stl" scale="0.001 0.001 0.001"/>
      </geometry>
      <material name="green_mat">
        <color rgba="0 1 0 1"/>
      </material>
    </visual>
    <collision>
      <origin rpy="0 0 0" xyz="0.007 -0.007 -0.014"/>
      <geometry>
        <box size="0.028 0.028 0.028"/>
      </geometry>
    </collision>
    <inertial>
      <mass value="0.04"/>
      <origin rpy="0 0 0" xyz="0.007 -0.007 -0.014"/>
      <!-- Inertial Axes -->
      <inertia ixx="5.22666666667e-06" ixy="0" ixz="0" iyx="0" iyy="5.22666666667e-06" iyz="0" izx="0" izy="0" izz="5.22666666667e-06"/>
    </inertial>
  </link>
  <link name="r_foot">
    <visual>
      <origin rpy="0 0 0" xyz="-0.0085 0 -0.0198"/>
      <geometry>
        <mesh filename="package://plen_ros/meshes/rfoot.stl" scale="0.001 0.001 0.001"/>
      </geometry>
      <material name="red_mat">
        <color rgba="1 0 0 1"/>
      </material>
    </visual>
    <collision>
      <origin rpy="0 0 0" xyz="-0.00925 0 -0.017"/>
      <geometry>
        <box size="0.041 0.062867 0.004"/>
      </geometry>
    </collision>
    <inertial>
      <mass value="0.015"/>
      <origin rpy="0 0 0" xyz="-0.00925 0 -0.009"/>
      <!-- Inertial Axes -->
      <inertia ixx="2.12125e-06" ixy="0" ixz="0" iyx="0" iyy="2.12125e-06" iyz="0" izx="0" izy="0" izz="7.04157461125e-06"/>
    </inertial>
  </link>
  <link name="l_hip">
    <visual>
      <origin rpy="0 0 3.14159265359" xyz="0.0 0.0 0.001"/>
      <geometry>
        <mesh filename="package://plen_ros/meshes/lhip.stl" scale="0.001 0.001 0.001"/>
      </geometry>
      <material name="blue_mat">
        <color rgba="0 0 1 1"/>
      </material>
    </visual>
    <collision>
      <origin rpy="0 0 3.14159265359" xyz="0 0 -0.009"/>
      <geometry>
        <box size="0.025 0.035 0.018"/>
      </geometry>
    </collision>
    <inertial>
      <mass value="0.002568"/>
      <origin rpy="0 0 0" xyz="0 0 -0.009"/>
      <!-- Inertial Axes -->
      <inertia ixx="2.03086e-07" ixy="0" ixz="0" iyx="0" iyy="2.03086e-07" iyz="0" izx="0" izy="0" izz="3.959e-07"/>
    </inertial>
  </link>
  <link name="l_thigh">
    <visual>
      <origin rpy="0 1.57079632679 0" xyz="0.0 0 0.0"/>
      <geometry>
        <mesh filename="package://plen_ros/meshes/rankle.stl" scale="0.001 0.001 0.001"/>
      </geometry>
      <material name="green_mat">
        <color rgba="0 1 0 1"/>
      </material>
    </visual>
    <collision>
      <origin rpy="0 1.57079632679 0" xyz="-0.014 -0.007 -0.007"/>
      <geometry>
        <box size="0.028 0.028 0.028"/>
      </geometry>
    </collision>
    <inertial>
      <mass value="0.04"/>
      <origin rpy="0 0 0" xyz="-0.014 -0.007 -0.007"/>
      <!-- Inertial Axes -->
      <inertia ixx="5.22666666667e-06" ixy="0" ixz="0" iyx="0" iyy="5.22666666667e-06" iyz="0" izx="0" izy="0" izz="5.22666666667e-06"/>
    </inertial>
  </link>
  <link name="l_knee">
    <visual>
      <origin rpy="0 0 0" xyz="0.0 0.0 0.0"/>
      <geometry>
        <mesh filename="package://plen_ros/meshes/lknee.stl" scale="0.001 0.001 0.001"/>
      </geometry>
      <material name="red_mat">
        <color rgba="1 0 0 1"/>
      </material>
    </visual>
    <collision>
      <origin rpy="0 0 0" xyz="0.0175 -0.001 0.0"/>
      <geometry>
        <box size="0.038 0.03 0.024"/>
      </geometry>
    </collision>
    <inertial>
      <mass value="0.005004"/>
      <origin rpy="0 0 0" xyz="0.0175 -0.001 0.0"/>
      <!-- Inertial Axes -->
      <inertia ixx="8.4234e-07" ixy="0" ixz="0" iyx="0" iyy="8.4234e-07" iyz="0" izx="0" izy="0" izz="9.77448e-07"/>
    </inertial>
  </link>
  <link name="l_knee_servo">
    <visual>
      <origin rpy="0 0 3.14159265359" xyz="0 0 0"/>
      <geometry>
        <mesh filename="package://plen_ros/meshes/servo.stl" scale="0.001 0.001 0.001"/>
      </geometry>
      <material name="blue_mat">
        <color rgba="0 0 1 1"/>
      </material>
    </visual>
    <collision>
      <origin rpy="0 0 3.14159265359" xyz="0 0.00625 0.0"/>
      <geometry>
        <box size="0.012 0.025 0.025"/>
      </geometry>
    </collision>
    <inertial>
      <mass value="0.012"/>
      <origin rpy="0 0 0" xyz="0 0.00625 0.0"/>
      <!-- Inertial Axes -->
      <inertia ixx="7.69e-07" ixy="0" ixz="0" iyx="0" iyy="7.69e-07" iyz="0" izx="0" izy="0" izz="7.69e-07"/>
    </inertial>
  </link>
  <link name="l_shin">
    <visual>
      <origin rpy="0 0 0" xyz="-0.0169 0 -0.0091"/>
      <geometry>
        <mesh filename="package://plen_ros/meshes/rshin.stl" scale="0.001 0.001 0.001"/>
      </geometry>
      <material name="blue_mat">
        <color rgba="0 0 1 1"/>
      </material>
    </visual>
    <collision>
      <origin rpy="0 0 0" xyz="-0.018 0 0.004"/>
      <geometry>
        <box size="0.045 0.04 0.023"/>
      </geometry>
    </collision>
    <inertial>
      <mass value="0.006965"/>
      <origin rpy="0 0 0" xyz="-0.018 0 0.004"/>
      <!-- Inertial Axes -->
      <inertia ixx="1.48238416667e-06" ixy="0" ixz="0" iyx="0" iyy="1.48238416667e-06" iyz="0" izx="0" izy="0" izz="2.10401041667e-06"/>
    </inertial>
  </link>
  <link name="l_ankle">
    <visual>
      <origin rpy="0 0 0" xyz="-0.0075 0.0 -0.0075"/>
      <geometry>
        <mesh filename="package://plen_ros/meshes/rthigh.stl" scale="0.001 0.001 0.001"/>
      </geometry>
      <material name="green_mat">
        <color rgba="0 1 0 1"/>
      </material>
    </visual>
    <collision>
      <origin rpy="0 0 0" xyz="-0.007 0.0 0.007"/>
      <geometry>
        <box size="0.028 0.028 0.028"/>
      </geometry>
    </collision>
    <inertial>
      <mass value="0.04"/>
      <origin rpy="0 0 0" xyz="-0.007 0.0 0.007"/>
      <!-- Inertial Axes -->
      <inertia ixx="5.22666666667e-06" ixy="0" ixz="0" iyx="0" iyy="5.22666666667e-06" iyz="0" izx="0" izy="0" izz="5.22666666667e-06"/>
    </inertial>
  </link>
  <link name="l_foot">
    <visual>
      <origin rpy="0 0 0" xyz="0.00885 0 -0.0142"/>
      <geometry>
        <mesh filename="package://plen_ros/meshes/lfoot.stl" scale="0.001 0.001 0.001"/>
      </geometry>
      <material name="red_mat">
        <color rgba="1 0 0 1"/>
      </material>
    </visual>
    <collision>
      <origin rpy="0 0 0" xyz="0.00925 0 -0.017"/>
      <geometry>
        <box size="0.041 0.062867 0.004"/>
      </geometry>
    </collision>
    <inertial>
      <mass value="0.015"/>
      <origin rpy="0 0 0" xyz="0.00925 0 -0.009"/>
      <!-- Inertial Axes -->
      <inertia ixx="2.12125e-06" ixy="0" ixz="0" iyx="0" iyy="2.12125e-06" iyz="0" izx="0" izy="0" izz="7.04157461125e-06"/>
    </inertial>
  </link>
  <joint name="base_torso" type="fixed">
    <origin rpy="0 0 0" xyz="0 0 0"/>
    <parent link="base_footprint"/>
    <child link="torso"/>
  </joint>
  <joint name="torso_batter" type="fixed">
    <origin rpy="0 0 0" xyz="-0.036 0 -0.012"/>
    <parent link="torso"/>
    <child link="battery"/>
  </joint>
  <joint name="torso_head" type="fixed">
    <origin rpy="0 0 0" xyz="-0.0065 0 0.056"/>
    <parent link="torso"/>
    <child link="head"/>
  </joint>
  <joint name="torso_rt_servo" type="fixed">
    <origin rpy="-1.57079632679 0 3.14159265359" xyz="-0.0066 -0.022 0.0308"/>
    <parent link="torso"/>
    <child link="rt_servo"/>
  </joint>
  <joint name="torso_lt_servo" type="fixed">
    <origin rpy="-1.57079632679 0 0" xyz="-0.0066 0.022 0.0308"/>
    <parent link="torso"/>
    <child link="lt_servo"/>
  </joint>
  <joint name="torso_rb_servo" type="fixed">
    <origin rpy="3.14159265359 0 3.14159265359" xyz="-0.0066 -0.0228 -0.02475"/>
    <parent link="torso"/>
    <child link="rb_servo"/>
  </joint>
  <joint name="torso_lb_servo" type="fixed">
    <origin rpy="3.14159265359 0 0" xyz="-0.0066 0.0228 -0.02475"/>
    <parent link="torso"/>
    <child link="lb_servo"/>
  </joint>
  <joint name="torso_r_shoulder" type="revolute">
    <axis xyz="0 0 1"/>
    <origin rpy="1.57079632679 -1.57079632679 0" xyz="-0.0066 -0.038 0.0308"/>
    <parent link="torso"/>
    <child link="r_shoulder"/>
    <limit effort="100" lower="-1" upper="1" velocity="100"/>
    <joint_properties damping="1" friction="1"/>
  </joint>
  <transmission name="tran13">
    <type>transmission_interface/SimpleTransmission</type>
    <joint name="torso_r_shoulder">
      <hardwareInterface>hardware_interface/EffortJointInterface</hardwareInterface>
    </joint>
    <actuator name="motor13">
      <hardwareInterface>hardware_interface/EffortJointInterface</hardwareInterface>
      <mechanicalReduction>1</mechanicalReduction>
    </actuator>
  </transmission>
  <joint name="r_shoulder_rs_servo" type="revolute">
    <axis xyz="0 0 1"/>
    <origin rpy="-1.57079632679 1.57079632679 0" xyz="-0.00535 0.0006 0.01265"/>
    <parent link="r_shoulder"/>
    <child link="rs_servo"/>
    <limit effort="100" lower="-1" upper="1" velocity="100"/>
    <joint_properties damping="1" friction="1"/>
  </joint>
  <transmission name="tran14">
    <type>transmission_interface/SimpleTransmission</type>
    <joint name="r_shoulder_rs_servo">
      <hardwareInterface>hardware_interface/EffortJointInterface</hardwareInterface>
    </joint>
    <actuator name="motor14">
      <hardwareInterface>hardware_interface/EffortJointInterface</hardwareInterface>
      <mechanicalReduction>1</mechanicalReduction>
    </actuator>
  </transmission>
  <joint name="rs_servo_r_arm" type="fixed">
    <origin rpy="-1.57079632679 0 0" xyz="0.0 0.0195 -0.002"/>
    <parent link="rs_servo"/>
    <child link="r_arm"/>
  </joint>
  <joint name="r_arm_re_servo" type="fixed">
    <origin rpy="-1.57079632679 0 0" xyz="0.0 0.002 0.0195"/>
    <parent link="r_arm"/>
    <child link="re_servo"/>
  </joint>
  <joint name="re_servo_r_elbow" type="revolute">
    <axis xyz="0 1 0"/>
    <origin rpy="-1.57079632679 0 1.57079632679" xyz="0.0 0.0 -0.0015"/>
    <parent link="re_servo"/>
    <child link="r_elbow"/>
    <limit effort="100" lower="-1" upper="1" velocity="100"/>
    <joint_properties damping="1" friction="1"/>
  </joint>
  <transmission name="tran15">
    <type>transmission_interface/SimpleTransmission</type>
    <joint name="re_servo_r_elbow">
      <hardwareInterface>hardware_interface/EffortJointInterface</hardwareInterface>
    </joint>
    <actuator name="motor15">
      <hardwareInterface>hardware_interface/EffortJointInterface</hardwareInterface>
      <mechanicalReduction>1</mechanicalReduction>
    </actuator>
  </transmission>
  <joint name="r_elbow_r_hand" type="fixed">
    <origin rpy="3.14159265359 1.57079632679 0" xyz="-0.03 0.0 0.0"/>
    <parent link="r_elbow"/>
    <child link="r_hand"/>
  </joint>
  <joint name="torso_l_shoulder" type="revolute">
    <axis xyz="0 0 1"/>
    <origin rpy="-1.57079632679 -1.57079632679 0" xyz="-0.0066 0.038 0.0308"/>
    <parent link="torso"/>
    <child link="l_shoulder"/>
    <limit effort="100" lower="-1" upper="1" velocity="100"/>
    <joint_properties damping="1" friction="1"/>
  </joint>
  <transmission name="tran16">
    <type>transmission_interface/SimpleTransmission</type>
    <joint name="torso_l_shoulder">
      <hardwareInterface>hardware_interface/EffortJointInterface</hardwareInterface>
    </joint>
    <actuator name="motor16">
      <hardwareInterface>hardware_interface/EffortJointInterface</hardwareInterface>
      <mechanicalReduction>1</mechanicalReduction>
    </actuator>
  </transmission>
  <joint name="l_shoulder_ls_servo" type="revolute">
    <axis xyz="0 0 1"/>
    <origin rpy="-1.57079632679 1.57079632679 0" xyz="-0.00535 0.0006 0.01265"/>
    <parent link="l_shoulder"/>
    <child link="ls_servo"/>
    <limit effort="100" lower="-1" upper="1" velocity="100"/>
    <joint_properties damping="1" friction="1"/>
  </joint>
  <transmission name="tran17">
    <type>transmission_interface/SimpleTransmission</type>
    <joint name="l_shoulder_ls_servo">
      <hardwareInterface>hardware_interface/EffortJointInterface</hardwareInterface>
    </joint>
    <actuator name="motor17">
      <hardwareInterface>hardware_interface/EffortJointInterface</hardwareInterface>
      <mechanicalReduction>1</mechanicalReduction>
    </actuator>
  </transmission>
  <joint name="ls_servo_l_arm" type="fixed">
    <origin rpy="-1.57079632679 0 0" xyz="0.0 0.0195 -0.002"/>
    <parent link="ls_servo"/>
    <child link="l_arm"/>
  </joint>
  <joint name="l_arm_le_servo" type="fixed">
    <origin rpy="-1.57079632679 0 0" xyz="0.0 0.002 0.0195"/>
    <parent link="l_arm"/>
    <child link="le_servo"/>
  </joint>
  <joint name="le_servo_l_elbow" type="revolute">
    <axis xyz="0 1 0"/>
    <origin rpy="-1.57079632679 0 1.57079632679" xyz="0.0 0.0 -0.0015"/>
    <parent link="le_servo"/>
    <child link="l_elbow"/>
    <limit effort="100" lower="-1" upper="1" velocity="100"/>
    <joint_properties damping="1" friction="1"/>
  </joint>
  <transmission name="tran18">
    <type>transmission_interface/SimpleTransmission</type>
    <joint name="le_servo_l_elbow">
      <hardwareInterface>hardware_interface/EffortJointInterface</hardwareInterface>
    </joint>
    <actuator name="motor18">
      <hardwareInterface>hardware_interface/EffortJointInterface</hardwareInterface>
      <mechanicalReduction>1</mechanicalReduction>
    </actuator>
  </transmission>
  <joint name="l_elbow_l_hand" type="fixed">
    <origin rpy="3.14159265359 1.57079632679 0" xyz="-0.03 0.0 0.0"/>
    <parent link="l_elbow"/>
    <child link="l_hand"/>
  </joint>
  <joint name="rb_servo_r_hip" type="revolute">
    <axis xyz="0 0 1"/>
    <origin rpy="3.14159265359 0 1.57079632679" xyz="0.0 0.0 0.0142"/>
    <parent link="rb_servo"/>
    <child link="r_hip"/>
    <limit effort="100" lower="-1" upper="1" velocity="100"/>
    <joint_properties damping="1" friction="1"/>
  </joint>
  <transmission name="tran1">
    <type>transmission_interface/SimpleTransmission</type>
    <joint name="rb_servo_r_hip">
      <hardwareInterface>hardware_interface/EffortJointInterface</hardwareInterface>
    </joint>
    <actuator name="motor1">
      <hardwareInterface>hardware_interface/EffortJointInterface</hardwareInterface>
      <mechanicalReduction>1</mechanicalReduction>
    </actuator>
  </transmission>
  <joint name="r_hip_r_thigh" type="revolute">
    <axis xyz="0 1 0"/>
    <origin rpy="3.14159265359 0 0" xyz="0.00545 -0.002 -0.01281"/>
    <parent link="r_hip"/>
    <child link="r_thigh"/>
    <limit effort="100" lower="-1" upper="1" velocity="100"/>
    <joint_properties damping="1" friction="1"/>
  </joint>
  <transmission name="tran2">
    <type>transmission_interface/SimpleTransmission</type>
    <joint name="r_hip_r_thigh">
      <hardwareInterface>hardware_interface/EffortJointInterface</hardwareInterface>
    </joint>
    <actuator name="motor2">
      <hardwareInterface>hardware_interface/EffortJointInterface</hardwareInterface>
      <mechanicalReduction>1</mechanicalReduction>
    </actuator>
  </transmission>
  <joint name="r_thigh_r_knee" type="revolute">
    <axis xyz="0 1 0"/>
    <origin rpy="1.57079632679 -1.57079632679 0" xyz="-0.023 0.0075 0.01275"/>
    <parent link="r_thigh"/>
    <child link="r_knee"/>
    <limit effort="100" lower="-1" upper="1" velocity="100"/>
    <joint_properties damping="1" friction="1"/>
  </joint>
  <transmission name="tran3">
    <type>transmission_interface/SimpleTransmission</type>
    <joint name="r_thigh_r_knee">
      <hardwareInterface>hardware_interface/EffortJointInterface</hardwareInterface>
    </joint>
    <actuator name="motor3">
      <hardwareInterface>hardware_interface/EffortJointInterface</hardwareInterface>
      <mechanicalReduction>1</mechanicalReduction>
    </actuator>
  </transmission>
  <joint name="r_knee_knee_servo" type="fixed">
    <origin rpy="-1.57079632679 0 0" xyz="0.028 -0.0128 0.0005"/>
    <parent link="r_knee"/>
    <child link="r_knee_servo"/>
  </joint>
  <joint name="r_knee_r_shin" type="revolute">
    <axis xyz="0 1 0"/>
    <origin rpy="0 0 0" xyz="0.0281 -0.0146 0.00045"/>
    <parent link="r_knee"/>
    <child link="r_shin"/>
    <limit effort="100" lower="-1" upper="1" velocity="100"/>
    <joint_properties damping="1" friction="1"/>
  </joint>
  <transmission name="tran4">
    <type>transmission_interface/SimpleTransmission</type>
    <joint name="r_knee_r_shin">
      <hardwareInterface>hardware_interface/EffortJointInterface</hardwareInterface>
    </joint>
    <actuator name="motor4">
      <hardwareInterface>hardware_interface/EffortJointInterface</hardwareInterface>
      <mechanicalReduction>1</mechanicalReduction>
    </actuator>
  </transmission>
  <joint name="r_shin_r_ankle" type="revolute">
    <axis xyz="0 0 1"/>
    <origin rpy="-1.57079632679 -1.57079632679 3.14159265359" xyz="0.03375 -0.017 0.0"/>
    <parent link="r_shin"/>
    <child link="r_ankle"/>
    <limit effort="100" lower="-1" upper="1" velocity="100"/>
    <joint_properties damping="1" friction="1"/>
  </joint>
  <transmission name="tran5">
    <type>transmission_interface/SimpleTransmission</type>
    <joint name="r_shin_r_ankle">
      <hardwareInterface>hardware_interface/EffortJointInterface</hardwareInterface>
    </joint>
    <actuator name="motor5">
      <hardwareInterface>hardware_interface/EffortJointInterface</hardwareInterface>
      <mechanicalReduction>1</mechanicalReduction>
    </actuator>
  </transmission>
  <joint name="r_ankle_r_foot" type="revolute">
    <axis xyz="0 1 0"/>
    <origin rpy="-1.57079632679 -1.57079632679 0" xyz="0.0042 -0.0127 -0.0074"/>
    <parent link="r_ankle"/>
    <child link="r_foot"/>
    <limit effort="100" lower="-1" upper="1" velocity="100"/>
    <joint_properties damping="1" friction="1"/>
  </joint>
  <transmission name="tran6">
    <type>transmission_interface/SimpleTransmission</type>
    <joint name="r_ankle_r_foot">
      <hardwareInterface>hardware_interface/EffortJointInterface</hardwareInterface>
    </joint>
    <actuator name="motor6">
      <hardwareInterface>hardware_interface/EffortJointInterface</hardwareInterface>
      <mechanicalReduction>1</mechanicalReduction>
    </actuator>
  </transmission>
  <joint name="lb_servo_l_hip" type="revolute">
    <axis xyz="0 0 1"/>
    <origin rpy="3.14159265359 0 1.57079632679" xyz="0.0 0.0 0.0142"/>
    <parent link="lb_servo"/>
    <child link="l_hip"/>
    <limit effort="100" lower="-1" upper="1" velocity="100"/>
    <joint_properties damping="1" friction="1"/>
  </joint>
  <transmission name="tran7">
    <type>transmission_interface/SimpleTransmission</type>
    <joint name="lb_servo_l_hip">
      <hardwareInterface>hardware_interface/EffortJointInterface</hardwareInterface>
    </joint>
    <actuator name="motor7">
      <hardwareInterface>hardware_interface/EffortJointInterface</hardwareInterface>
      <mechanicalReduction>1</mechanicalReduction>
    </actuator>
  </transmission>
  <joint name="l_hip_l_thigh" type="revolute">
    <axis xyz="1 0 0"/>
    <origin rpy="1.57079632679 0 1.57079632679" xyz="0.0055 0.017 -0.01265"/>
    <parent link="l_hip"/>
    <child link="l_thigh"/>
    <limit effort="100" lower="-1" upper="1" velocity="100"/>
    <joint_properties damping="1" friction="1"/>
  </joint>
  <transmission name="tran8">
    <type>transmission_interface/SimpleTransmission</type>
    <joint name="l_hip_l_thigh">
      <hardwareInterface>hardware_interface/EffortJointInterface</hardwareInterface>
    </joint>
    <actuator name="motor8">
      <hardwareInterface>hardware_interface/EffortJointInterface</hardwareInterface>
      <mechanicalReduction>1</mechanicalReduction>
    </actuator>
  </transmission>
  <joint name="l_thigh_l_knee" type="revolute">
    <axis xyz="0 1 0"/>
    <origin rpy="-1.57079632679 0 -1.57079632679" xyz="-0.0074 -0.0128 -0.0086"/>
    <parent link="l_thigh"/>
    <child link="l_knee"/>
    <limit effort="100" lower="-1" upper="1" velocity="100"/>
    <joint_properties damping="1" friction="1"/>
  </joint>
  <transmission name="tran9">
    <type>transmission_interface/SimpleTransmission</type>
    <joint name="l_thigh_l_knee">
      <hardwareInterface>hardware_interface/EffortJointInterface</hardwareInterface>
    </joint>
    <actuator name="motor9">
      <hardwareInterface>hardware_interface/EffortJointInterface</hardwareInterface>
      <mechanicalReduction>1</mechanicalReduction>
    </actuator>
  </transmission>
  <joint name="l_knee_knee_servo" type="fixed">
    <origin rpy="-1.57079632679 3.14159265359 0" xyz="0.028 0.00145 0.0"/>
    <parent link="l_knee"/>
    <child link="l_knee_servo"/>
  </joint>
  <joint name="l_knee_l_shin" type="revolute">
    <axis xyz="0 1 0"/>
    <origin rpy="0 3.14159265359 0" xyz="0.0281 -0.0002 0.00045"/>
    <parent link="l_knee"/>
    <child link="l_shin"/>
    <limit effort="100" lower="-1" upper="1" velocity="100"/>
    <joint_properties damping="1" friction="1"/>
  </joint>
  <transmission name="tran10">
    <type>transmission_interface/SimpleTransmission</type>
    <joint name="l_knee_l_shin">
      <hardwareInterface>hardware_interface/EffortJointInterface</hardwareInterface>
    </joint>
    <actuator name="motor10">
      <hardwareInterface>hardware_interface/EffortJointInterface</hardwareInterface>
      <mechanicalReduction>1</mechanicalReduction>
    </actuator>
  </transmission>
  <joint name="l_shin_l_ankle" type="revolute">
    <axis xyz="0 1 0"/>
    <origin rpy="3.14159265359 1.57079632679 0" xyz="-0.03375 -0.002 0.0"/>
    <parent link="l_shin"/>
    <child link="l_ankle"/>
    <limit effort="100" lower="-1" upper="1" velocity="100"/>
    <joint_properties damping="1" friction="1"/>
  </joint>
  <transmission name="tran11">
    <type>transmission_interface/SimpleTransmission</type>
    <joint name="l_shin_l_ankle">
      <hardwareInterface>hardware_interface/EffortJointInterface</hardwareInterface>
    </joint>
    <actuator name="motor11">
      <hardwareInterface>hardware_interface/EffortJointInterface</hardwareInterface>
      <mechanicalReduction>1</mechanicalReduction>
    </actuator>
  </transmission>
  <joint name="l_ankle_l_foot" type="revolute">
    <axis xyz="0 1 0"/>
    <origin rpy="3.14159265359 0 -1.57079632679" xyz="-0.0042 0.0075 0.0128"/>
    <parent link="l_ankle"/>
    <child link="l_foot"/>
    <limit effort="100" lower="-1" upper="1" velocity="100"/>
    <joint_properties damping="1" friction="1"/>
  </joint>
  <transmission name="tran12">
    <type>transmission_interface/SimpleTransmission</type>
    <joint name="l_ankle_l_foot">
      <hardwareInterface>hardware_interface/EffortJointInterface</hardwareInterface>
    </joint>
    <actuator name="motor12">
      <hardwareInterface>hardware_interface/EffortJointInterface</hardwareInterface>
      <mechanicalReduction>1</mechanicalReduction>
    </actuator>
  </transmission>
</robot>
